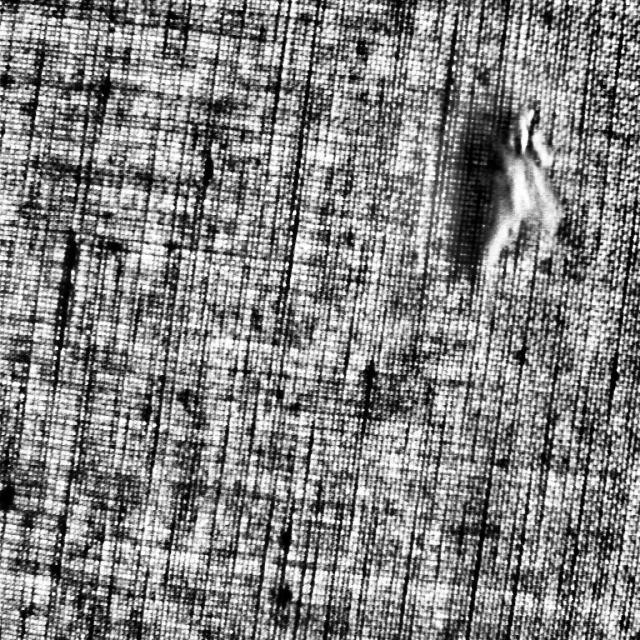Stitch: (467, 105, 571, 267)
